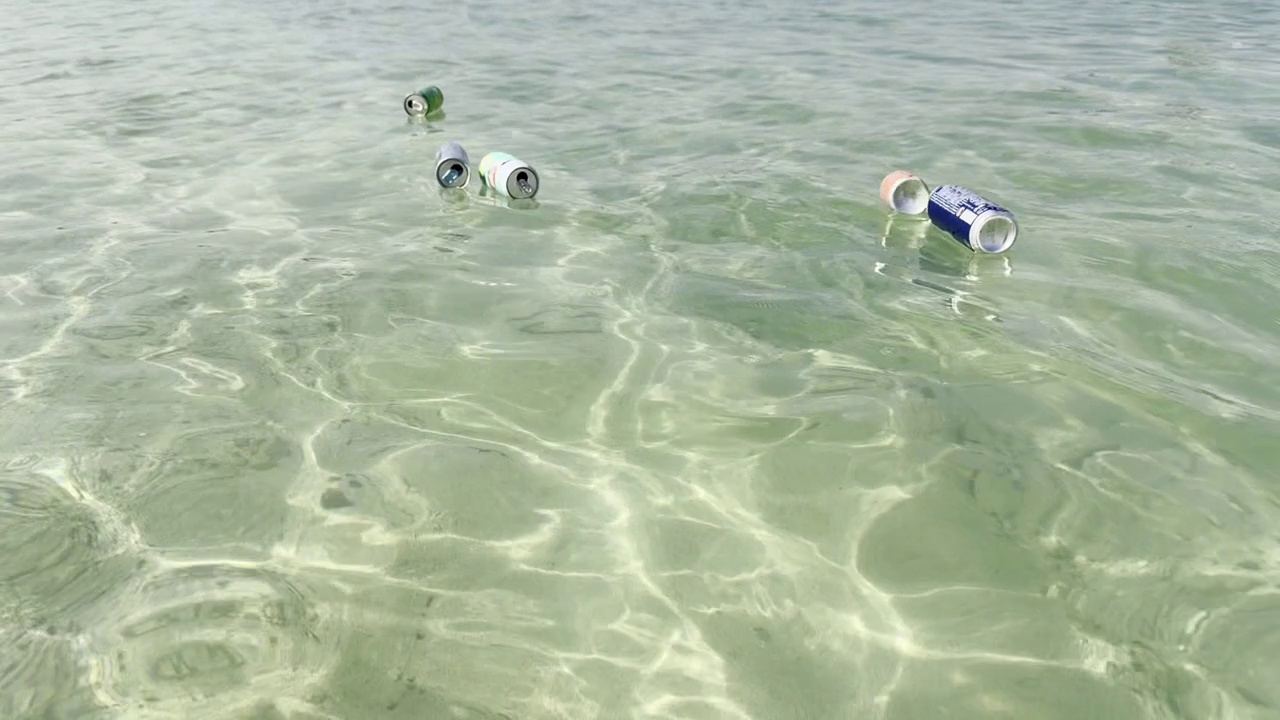debris: (919, 171, 1025, 266), (472, 144, 547, 211), (875, 161, 930, 220), (428, 138, 472, 194), (398, 84, 451, 118)
